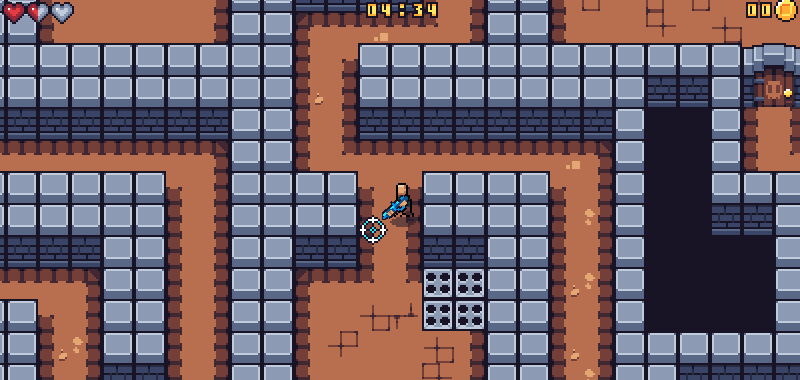door: (737, 40, 800, 108)
trap_off: (423, 269, 486, 330)
